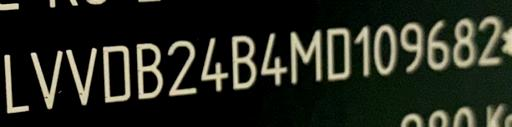letter: (64, 42, 102, 109), (286, 27, 326, 90), (256, 28, 290, 99), (27, 47, 65, 110), (130, 37, 164, 102), (198, 33, 230, 98), (164, 36, 198, 97), (100, 43, 132, 106), (228, 30, 258, 97), (324, 25, 354, 90), (2, 51, 32, 114), (476, 15, 506, 74), (397, 19, 427, 78), (451, 14, 479, 73), (424, 17, 452, 76), (372, 21, 400, 80), (352, 22, 376, 83)
